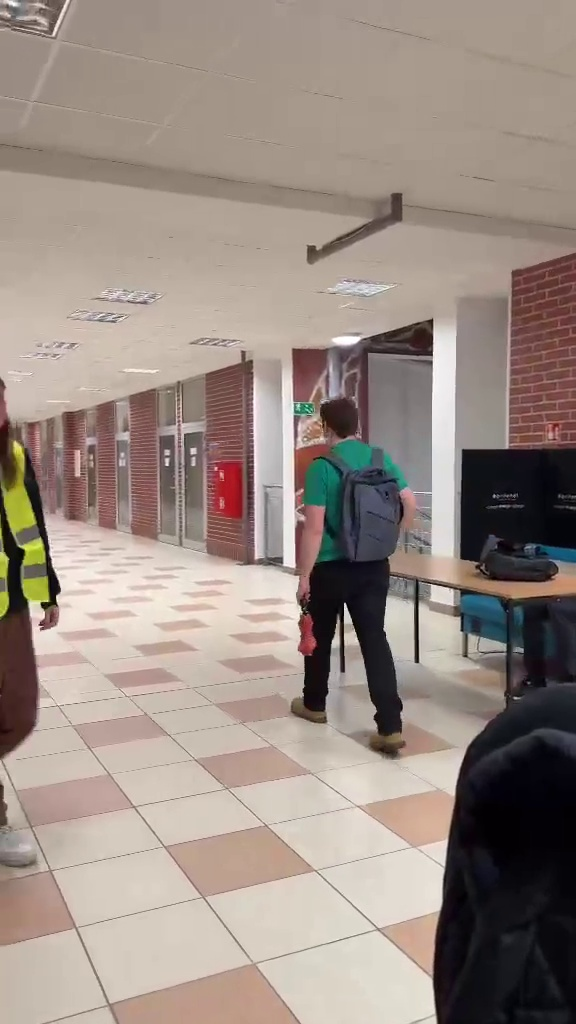no vest: (292, 388, 419, 763)
vest: (0, 367, 71, 872)
